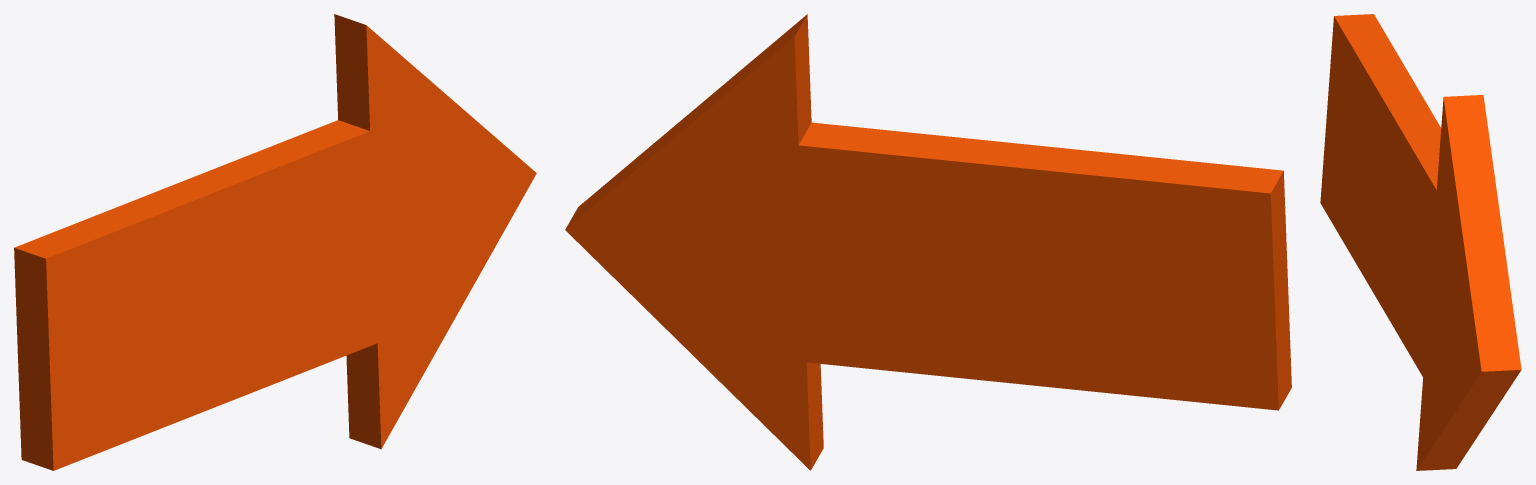
The model's file is arrow.glb.
The picture shows the model from 3 angles, left to right: view 1: azimuth 30°, elevation 25°; view 2: azimuth 150°, elevation 25°; view 3: azimuth 270°, elevation 25°; orthographic projection. The views are drawn at different scales.
Visible parts, largest first — view 1: mesh_id5, mesh_id4; view 2: mesh_id5, mesh_id4; view 3: mesh_id5, mesh_id4.
Part boxes in pixels (x1,y1,x2,y2): mesh_id5: [14, 120, 379, 470]; mesh_id4: [334, 14, 536, 449]; mesh_id5: [798, 122, 1291, 410]; mesh_id4: [565, 14, 823, 470]; mesh_id5: [1320, 14, 1441, 377]; mesh_id4: [1416, 95, 1521, 470].
Size of the model in its own units: 0.5043 by 0.3442 by 0.1667.
Materials: 2 (2 with a texture image).
